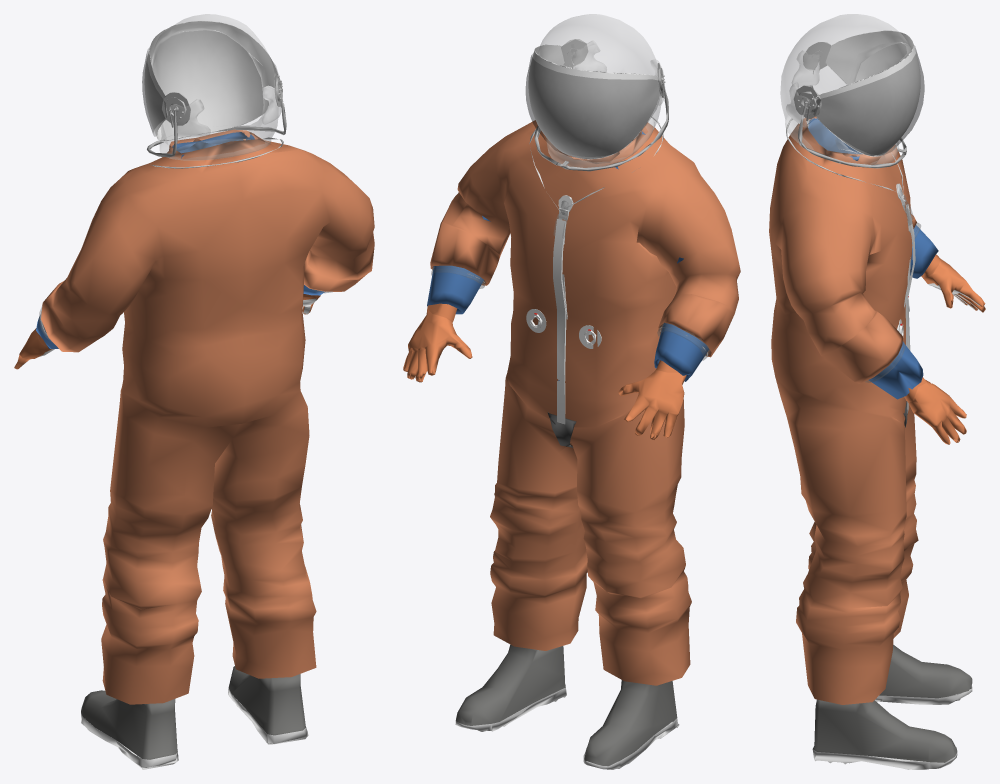
The model's file is suit.glb.
3 views of the same model, side by side, from view 1: azimuth 30°, elevation 25°; view 2: azimuth 150°, elevation 25°; view 3: azimuth 270°, elevation 25° (orthographic). The views are drawn at different scales.
Visible parts, largest first — view 1: Advanced Crew Escape Suit; view 2: Advanced Crew Escape Suit; view 3: Advanced Crew Escape Suit.
Part boxes in pixels (<box>): Advanced Crew Escape Suit: <box>14,14,374,769</box>; Advanced Crew Escape Suit: <box>403,14,740,769</box>; Advanced Crew Escape Suit: <box>769,14,985,769</box>.
Bounding box in the file's own units: 0.887 × 2 × 0.555.
2 materials, 2 textured.
